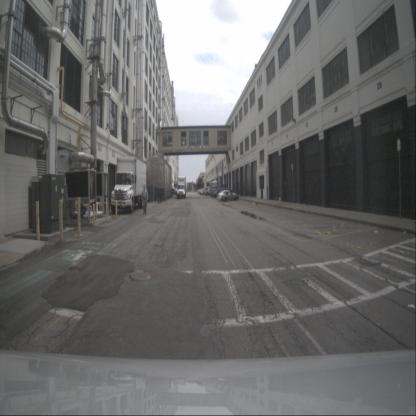human-pedestrian-adult: (141, 184, 149, 214)
vehicle-car: (217, 190, 239, 202), (213, 188, 227, 198), (168, 188, 177, 195)
vehicle-truck: (110, 155, 148, 214), (176, 176, 186, 198), (210, 180, 218, 196), (204, 187, 213, 195)
